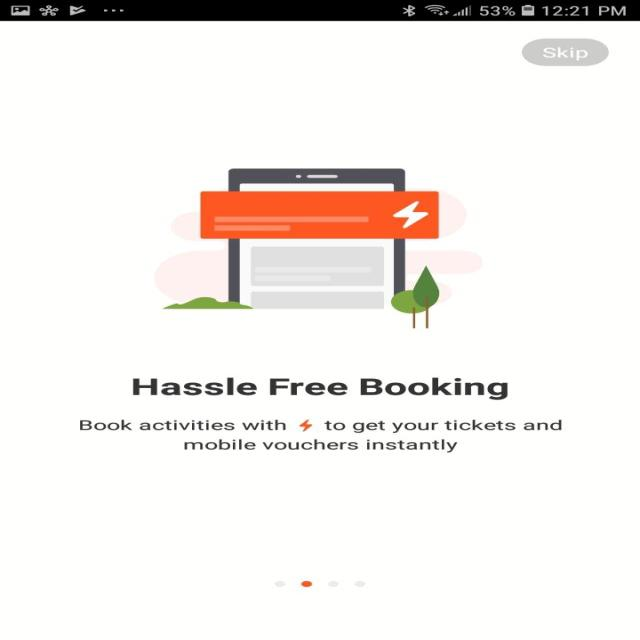Image: (152, 167, 484, 328)
Text: (79, 419, 562, 453), (132, 377, 508, 400)
TextButton: (521, 38, 609, 66)
